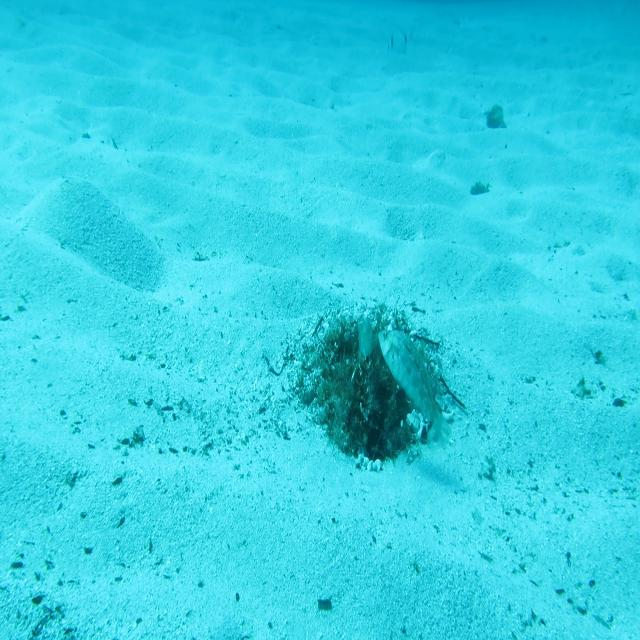LF: (377, 327, 453, 454)
core_nest: (346, 328, 396, 364)
female: (356, 314, 373, 365)
nest: (286, 291, 454, 474)
other_fish: (384, 23, 418, 59)
vegetation: (481, 103, 507, 131), (469, 177, 493, 197), (315, 596, 334, 612)
